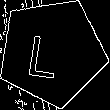L_N: (33, 25, 72, 79)
